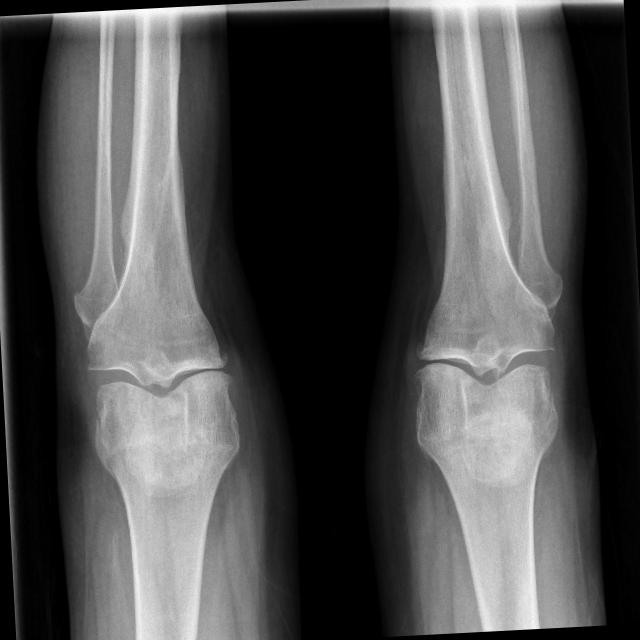Knee: (79, 292, 236, 448), (404, 278, 560, 432)
